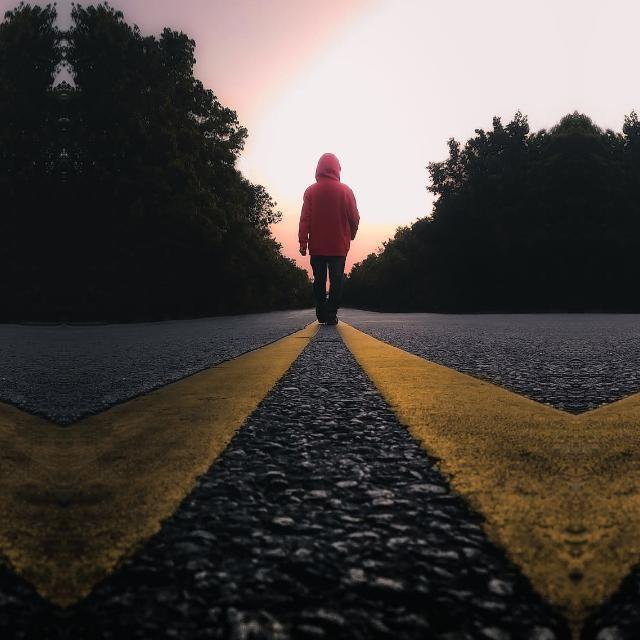person: (273, 140, 373, 342)
